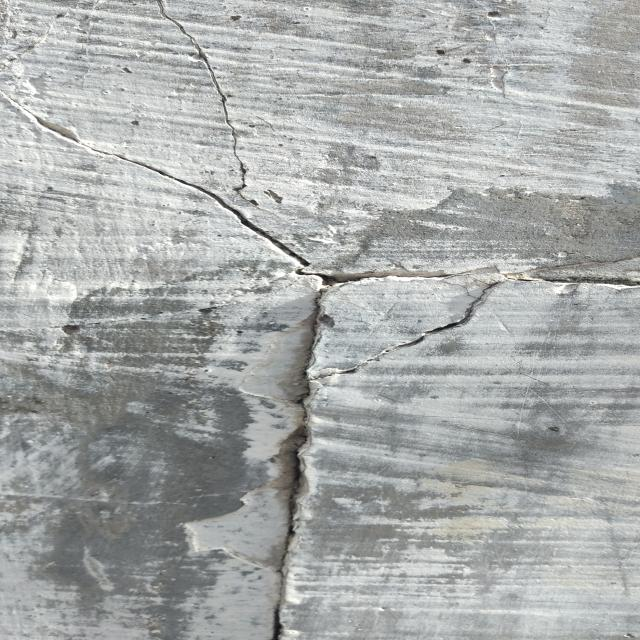Crack: (3, 88, 638, 638)
